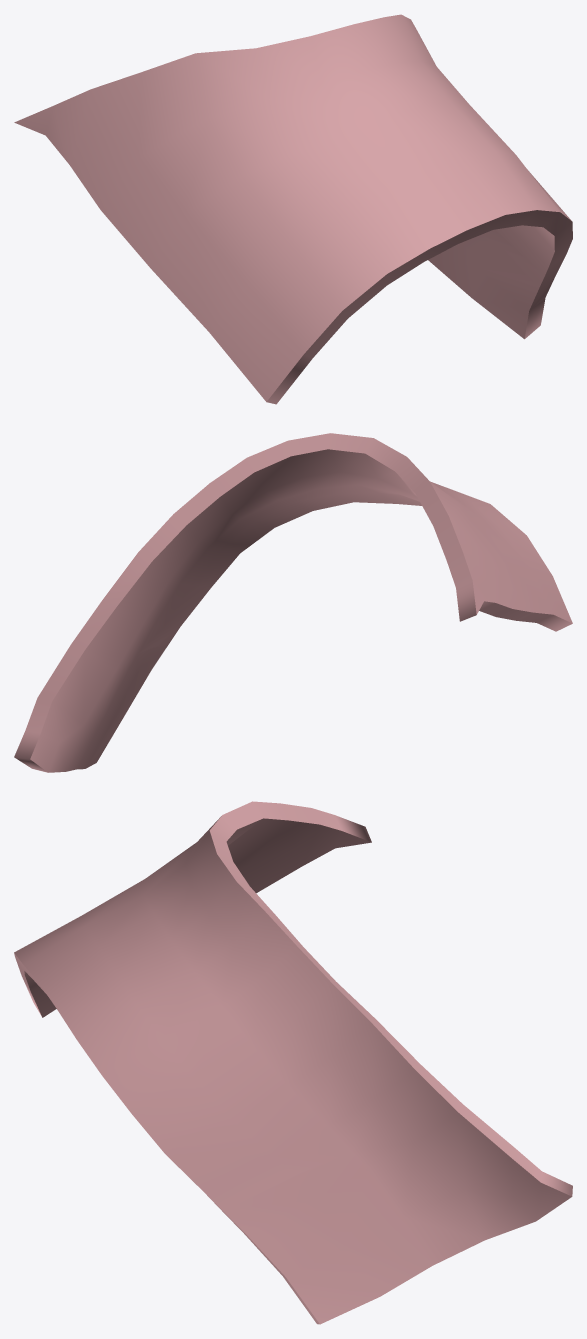
3 renders of one model, top to bottom at view 1: azimuth 30°, elevation 25°; view 2: azimuth 150°, elevation 25°; view 3: azimuth 270°, elevation 25°, orthographic. The views are drawn at different scales.
Visible parts, largest first — view 1: ZA_661411b31eb30930; view 2: ZA_661411b31eb30930; view 3: ZA_661411b31eb30930.
Boxes of the visible parts, bbox=[...] form: ZA_661411b31eb30930: bbox=[14, 14, 572, 404]; ZA_661411b31eb30930: bbox=[14, 433, 572, 772]; ZA_661411b31eb30930: bbox=[14, 801, 572, 1324].
Size of the model in its own units: 0.0757 by 0.0596 by 0.0809.
